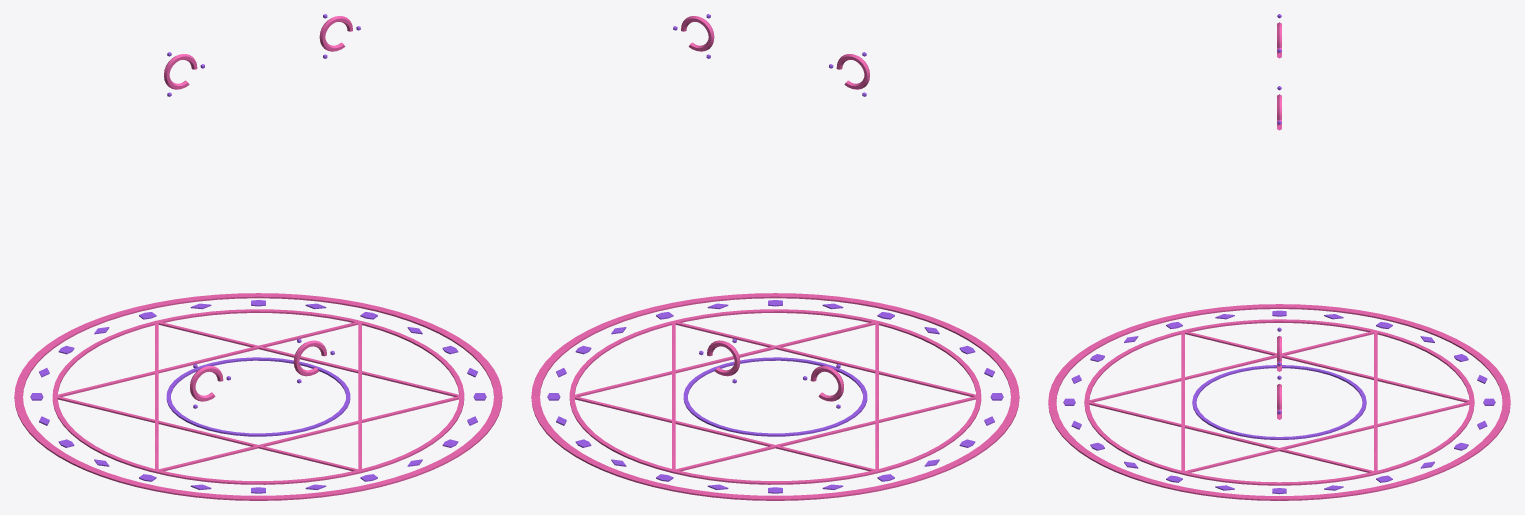
Rendered from Furn_Fan_BindingCircle.fbx.
3 renders of one model, left to right at view 1: azimuth 30°, elevation 25°; view 2: azimuth 150°, elevation 25°; view 3: azimuth 270°, elevation 25°, orthographic. The views are drawn at different scales.
Parts seen in each view (by area): view 1: Fan_BindingCircle; view 2: Fan_BindingCircle; view 3: Fan_BindingCircle.
Boxes of the visible parts, x1,y1,x2,y2 form: Fan_BindingCircle: (14,14,502,500); Fan_BindingCircle: (531,14,1019,500); Fan_BindingCircle: (1048,14,1510,500).
Size of the model in its own units: 2.28 by 1.89 by 2.28.
2 materials, 2 textured.
